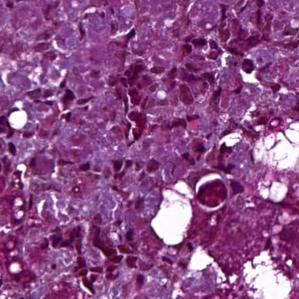ballooning: (149, 179, 197, 247), (252, 119, 299, 174)
